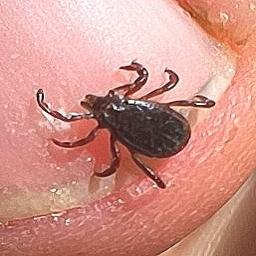Rhipicephalus sanguineus: (34, 63, 215, 188)
